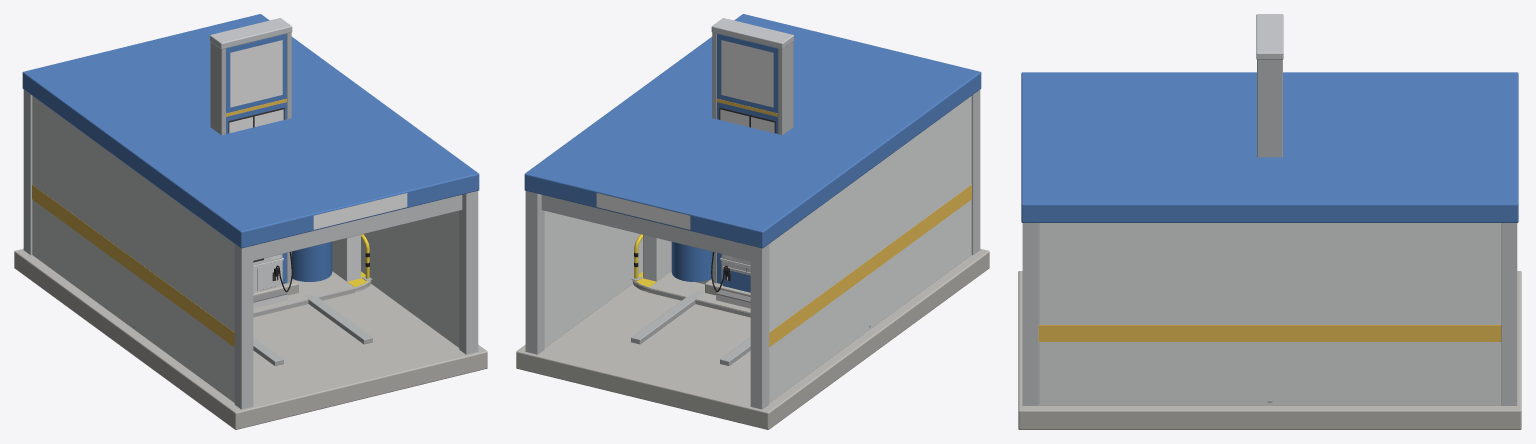
The model's file is fuelkit.glb.
3 views of the same model, side by side, from view 1: azimuth 30°, elevation 25°; view 2: azimuth 150°, elevation 25°; view 3: azimuth 270°, elevation 25° (orthographic). The views are drawn at different scales.
Parts seen in each view (by area): view 1: carwash, totem, totem__sign, island, carwash__sign, dispenser; view 2: carwash, totem, totem__sign, island, carwash__sign, dispenser, shopsign; view 3: carwash, totem.
Part boxes in pixels (x1,y1,x2,y2): carwash: (14,14,487,429); totem: (209,18,298,296); totem__sign: (229,40,283,133); island: (133,234,372,327); carwash__sign: (313,193,407,229); dispenser: (253,252,292,292); carwash: (516,14,989,429); totem: (705,18,794,296); totem__sign: (720,40,774,133); island: (631,234,870,327); carwash__sign: (596,193,690,229); dispenser: (711,252,750,292); shopsign: (722,266,750,292); carwash: (1018,72,1521,429); totem: (1256,14,1283,157).
Bounding box in the file's own units: 5.4 × 6.54 × 8.2.
